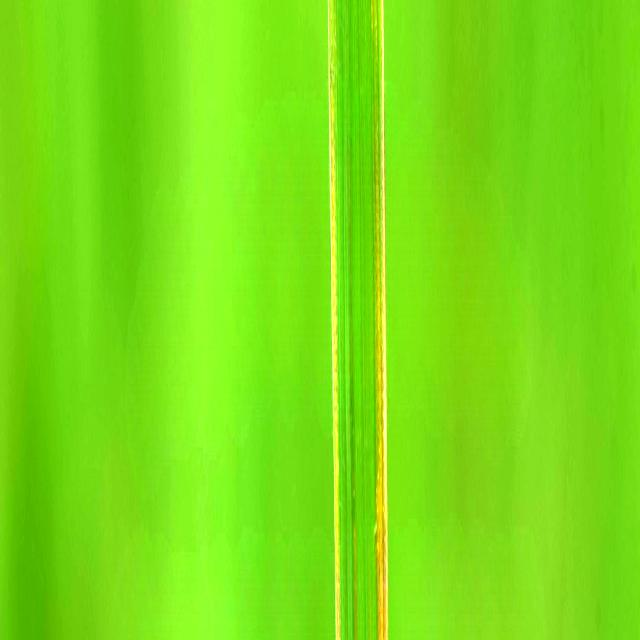BLS: (375, 0, 387, 640), (330, 0, 340, 640), (352, 530, 356, 640), (371, 0, 373, 44), (375, 0, 376, 64), (369, 612, 371, 640)
